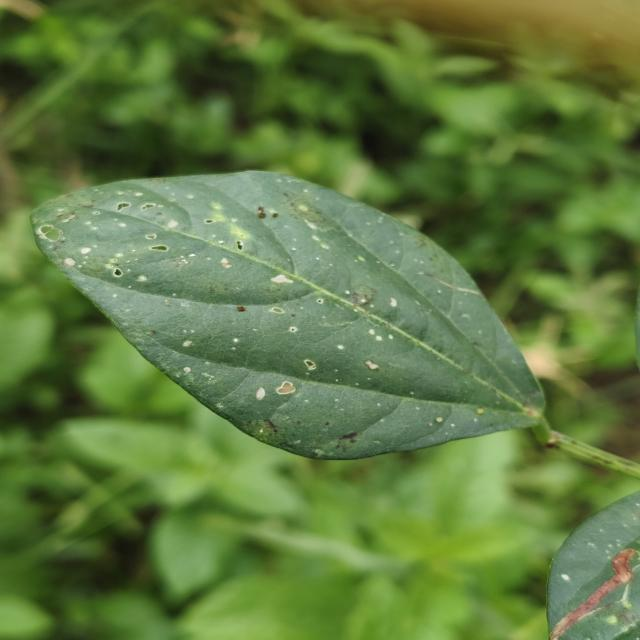sitaw-aphid-high: (31, 171, 550, 459)
